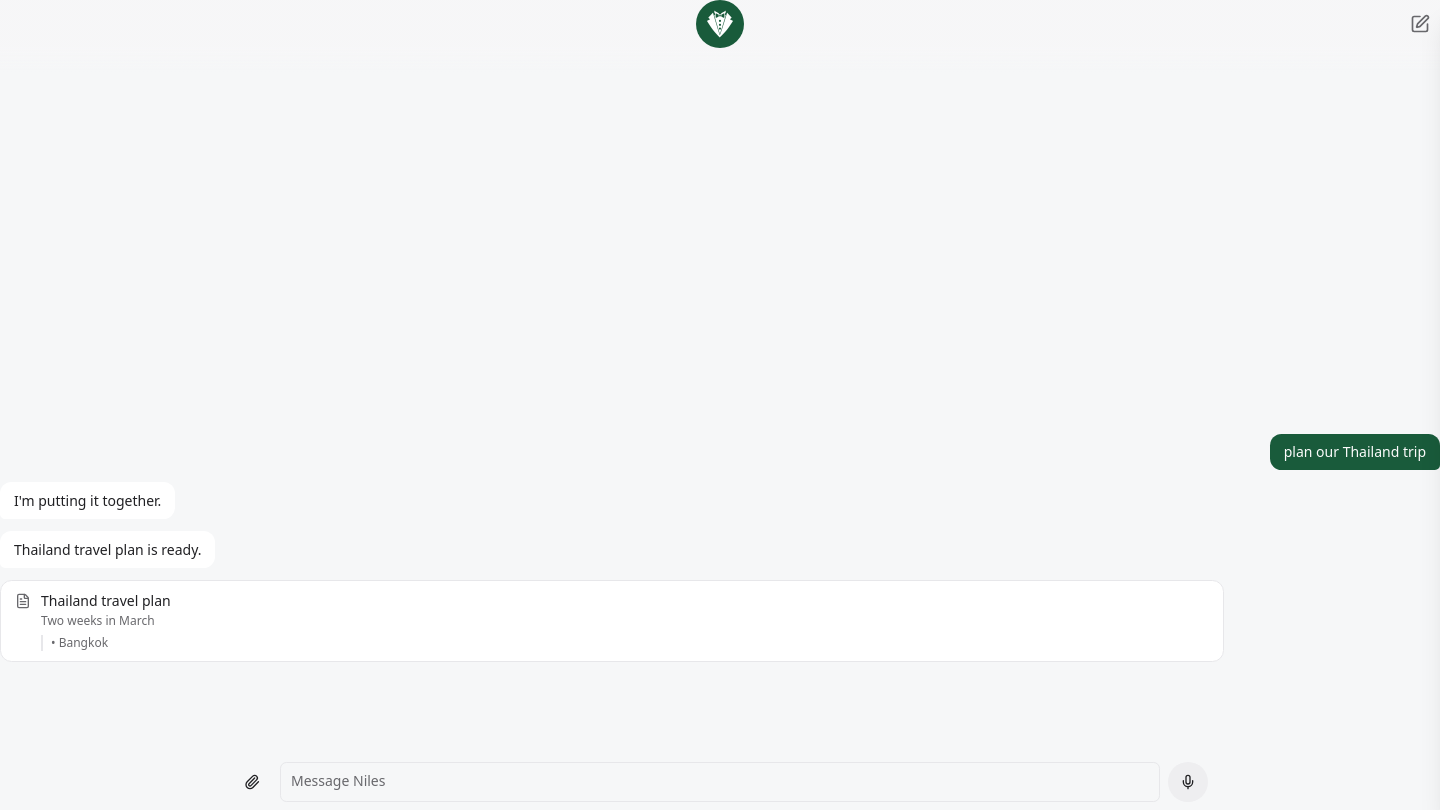
Scenario: ChatPage › opens the panel on an artifact from its card in the chat
The width and height of the screenshot is (1440, 810).
Step 1. Click the button with aria-label "Open Thailand travel plan" → x=106, y=600, box [0,580,1224,662]
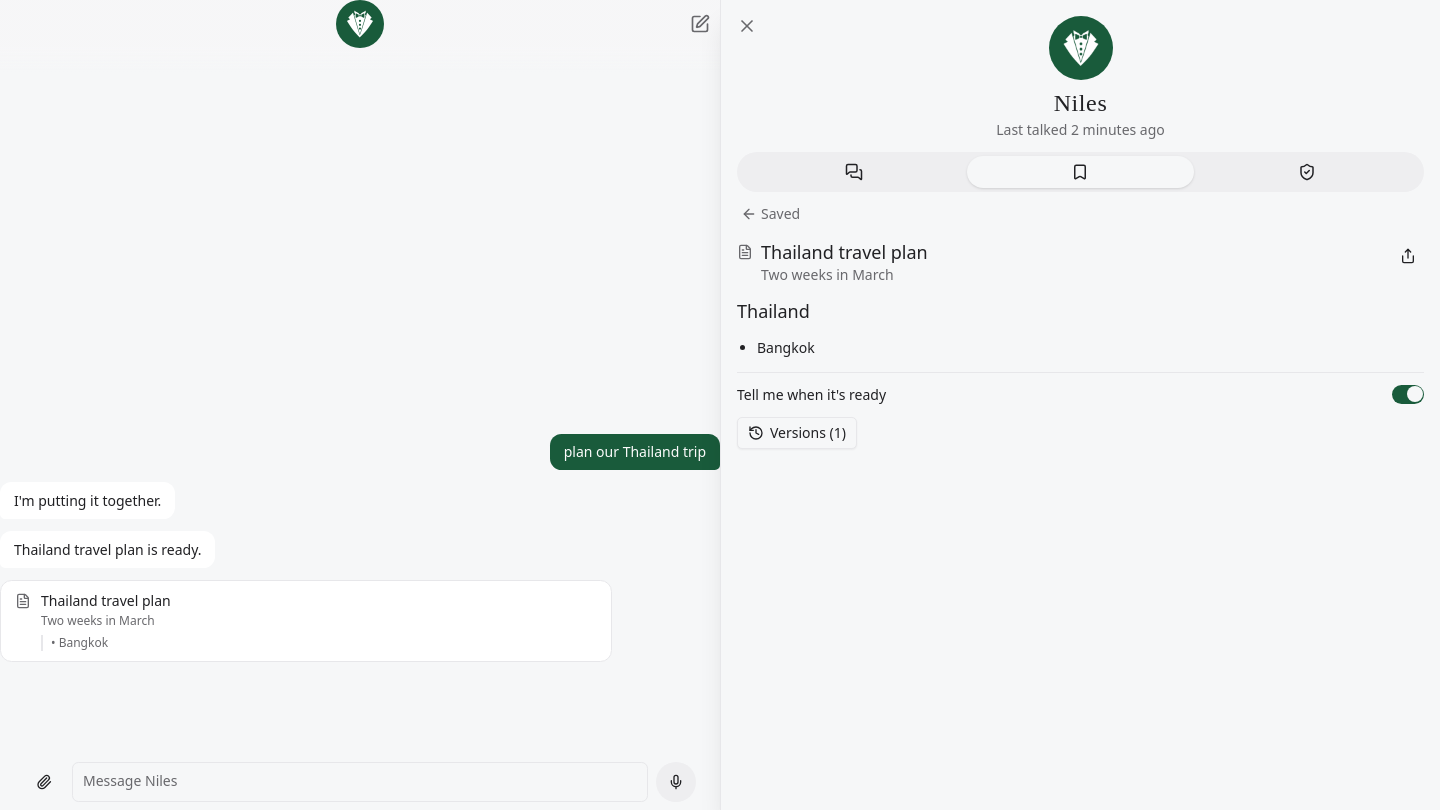
Result: the heading "Thailand travel plan" is shown at [761,240,928,264]
Result: the heading "Thailand" is shown at [737,299,810,323]
Step 2. Click the button "Saved" → x=771, y=214, box [737,200,804,228]
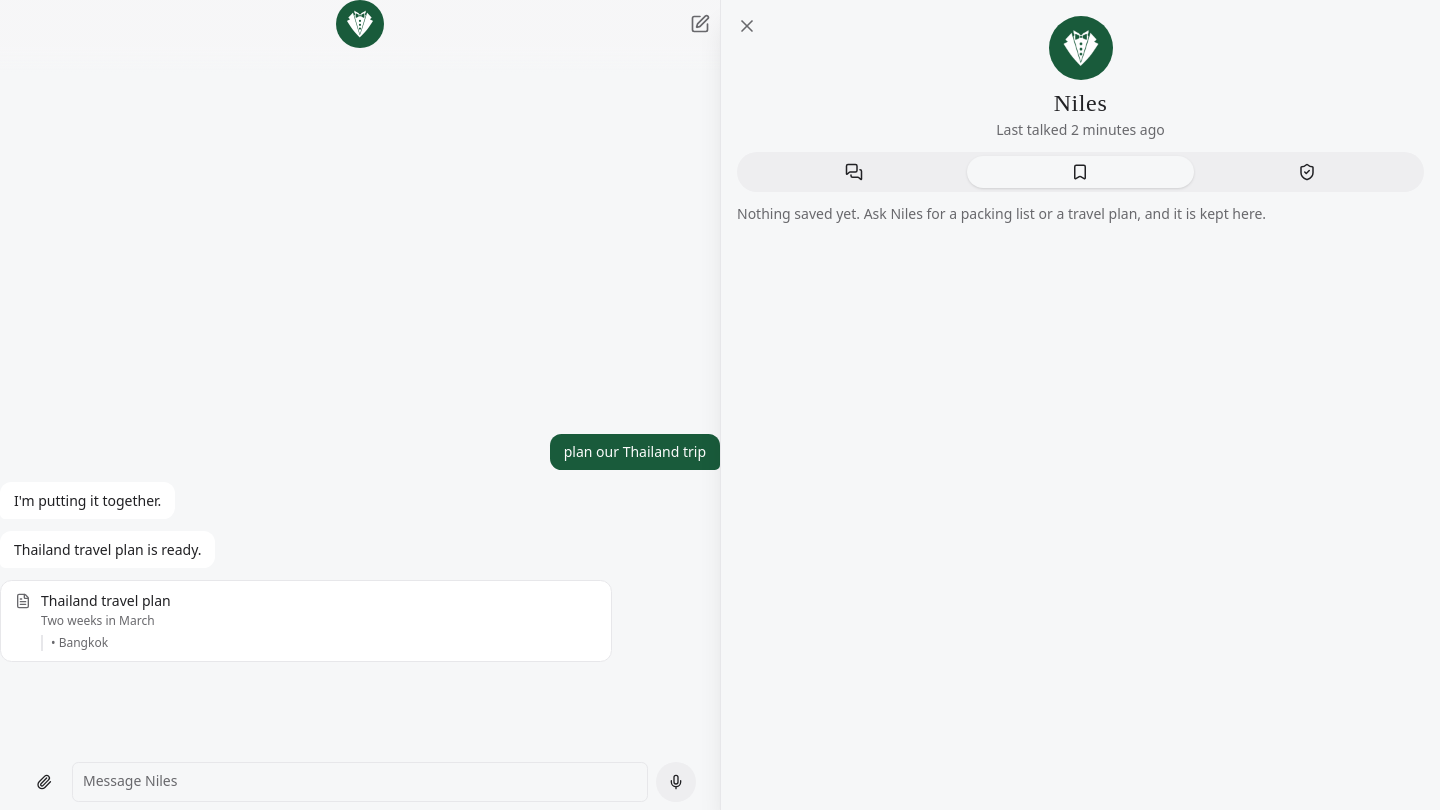
Result: the text "Nothing saved yet" is shown at [737,204,1266,223]
